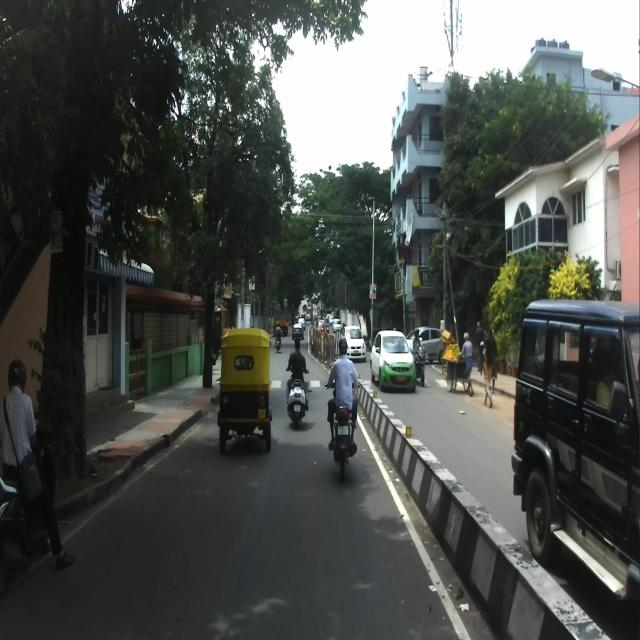autorickshaw: (217, 328, 275, 452)
car: (510, 298, 640, 640)
motorcycle: (322, 380, 363, 479)
scooter: (0, 410, 56, 592)
